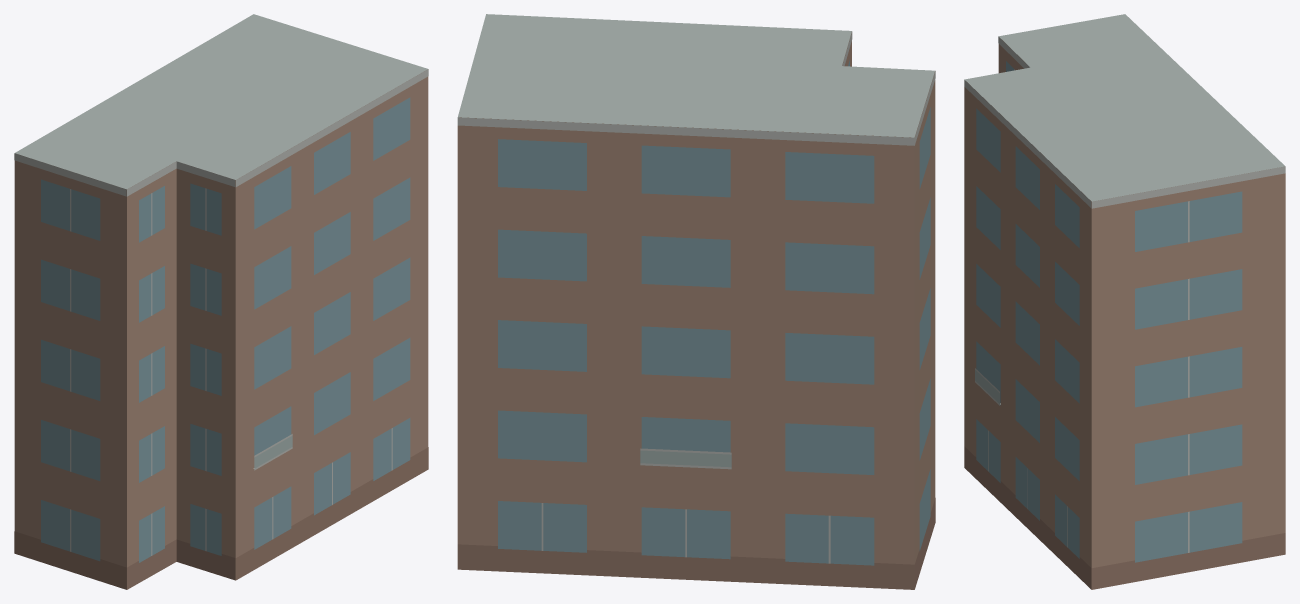
File: survey-upis-32689673.glb
3 views of the same model, side by side, from view 1: azimuth 30°, elevation 25°; view 2: azimuth 150°, elevation 25°; view 3: azimuth 270°, elevation 25° (orthographic). The views are drawn at different scales.
Visible parts, largest first — view 1: survey-upis-32689673.tmp; view 2: survey-upis-32689673.tmp; view 3: survey-upis-32689673.tmp.
Part boxes in pixels (x1=…): survey-upis-32689673.tmp: x1=14, y1=14, x2=428, y2=589; survey-upis-32689673.tmp: x1=457, y1=14, x2=935, y2=589; survey-upis-32689673.tmp: x1=964, y1=14, x2=1285, y2=589.
Size of the model in its own units: 13.9 by 13.4 by 10.06.
